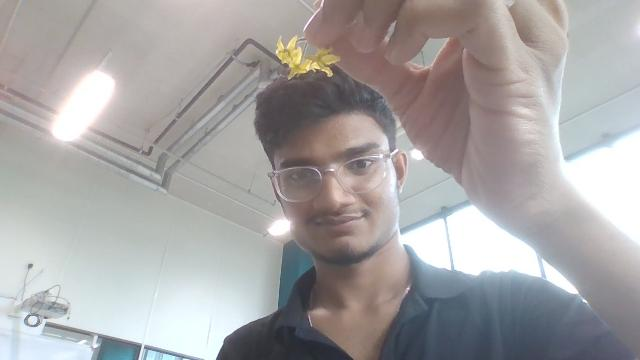Anthesis: (275, 35, 309, 76), (303, 46, 340, 76)
